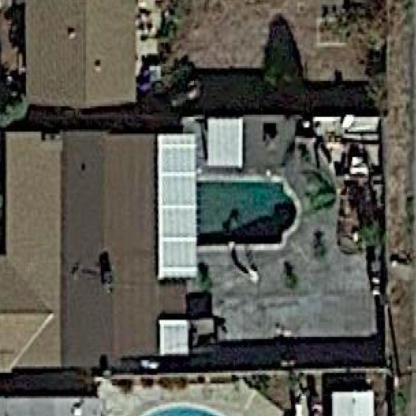swimming_pool: (184, 165, 309, 263)
